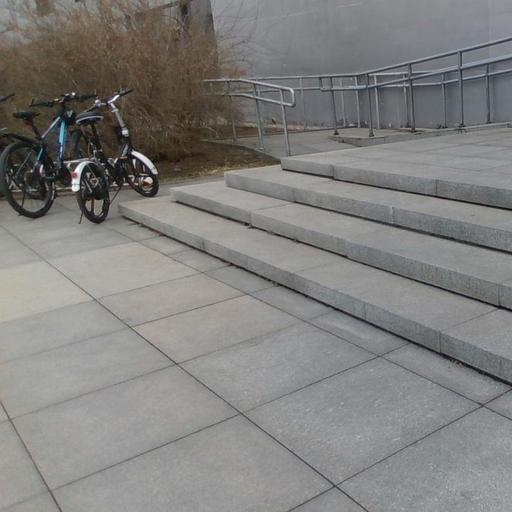stairs: (121, 148, 511, 381)
